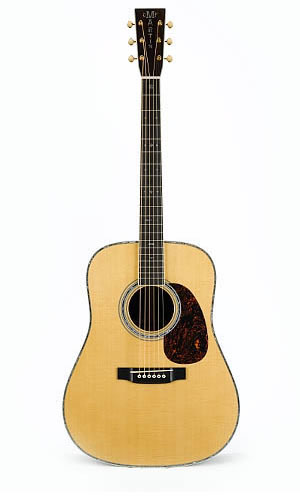guitar: (61, 8, 242, 467)
